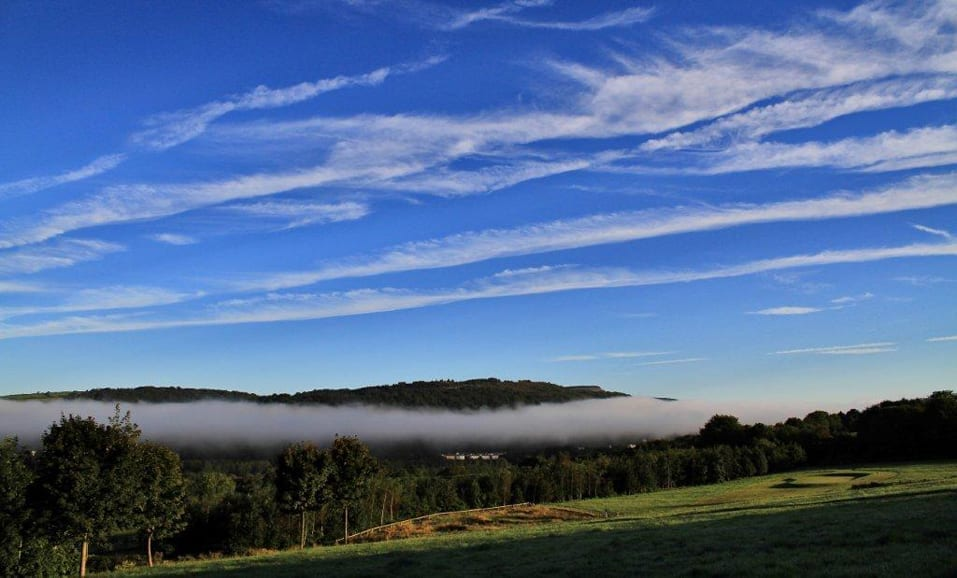Stratus: (15, 174, 957, 333), (135, 7, 956, 186), (9, 373, 931, 451)
